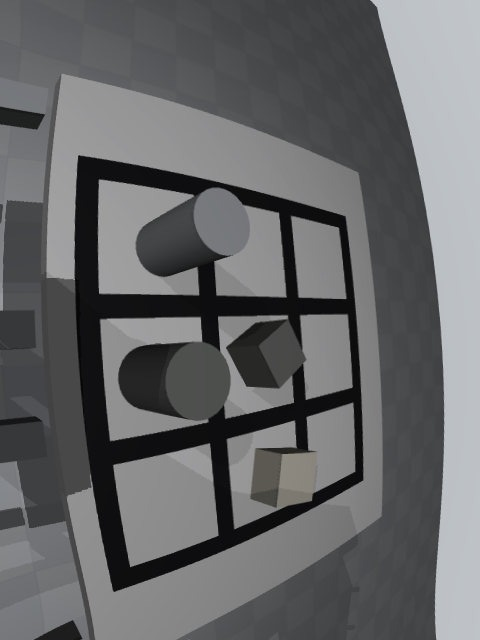can: (135, 187, 250, 277)
cube: (226, 320, 306, 389)
cylinder: (118, 341, 231, 421)
foam: (250, 448, 317, 508)
